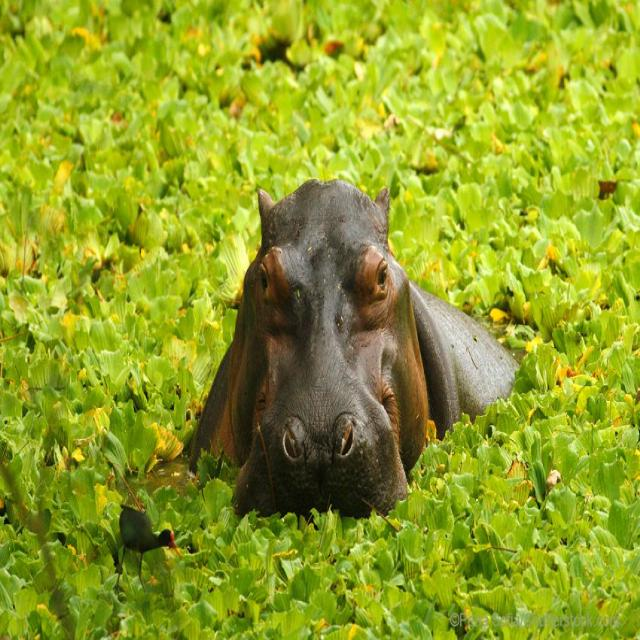Hippopotamus: (187, 176, 518, 520)
